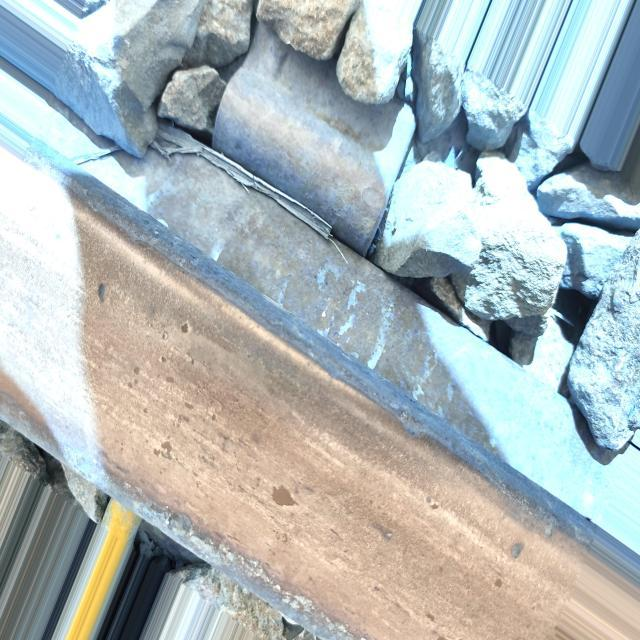Missing Fastener: (212, 15, 415, 256)
